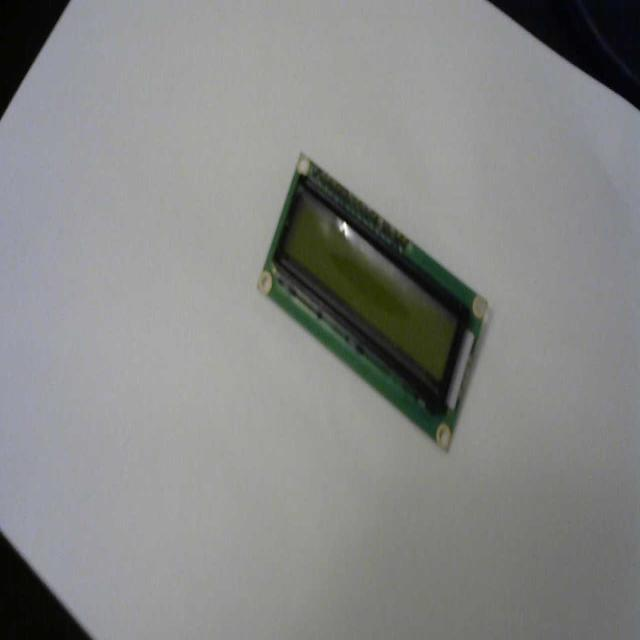lcd: (256, 148, 488, 454)
